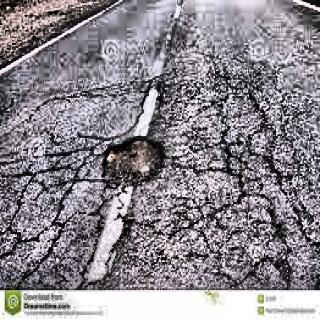alligator-crack: (189, 90, 320, 288), (38, 134, 102, 185)
crack: (15, 186, 74, 288), (81, 191, 120, 285), (95, 197, 134, 285), (6, 173, 37, 238), (0, 224, 53, 262)
pothole: (101, 133, 167, 192)
